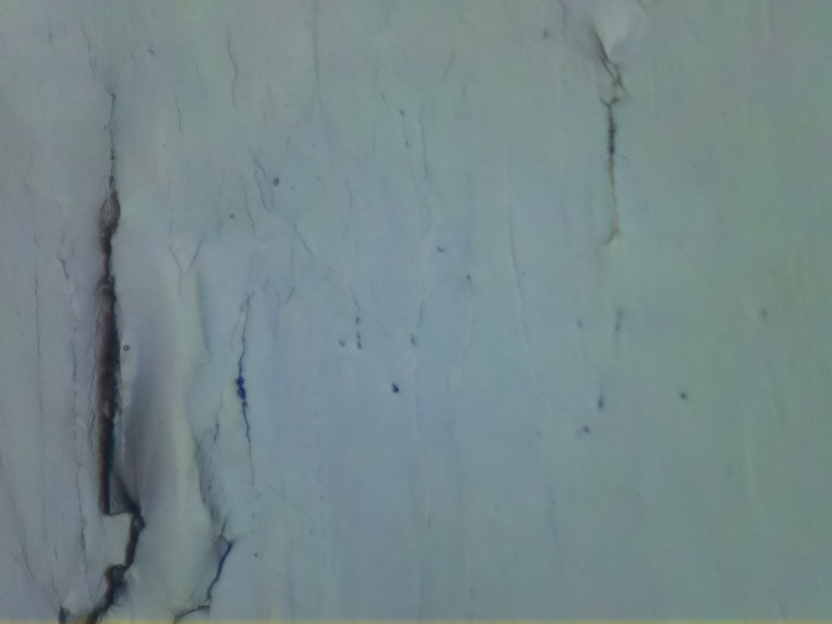crack: (53, 191, 148, 624), (170, 528, 239, 624), (231, 302, 256, 481), (599, 91, 627, 250)
